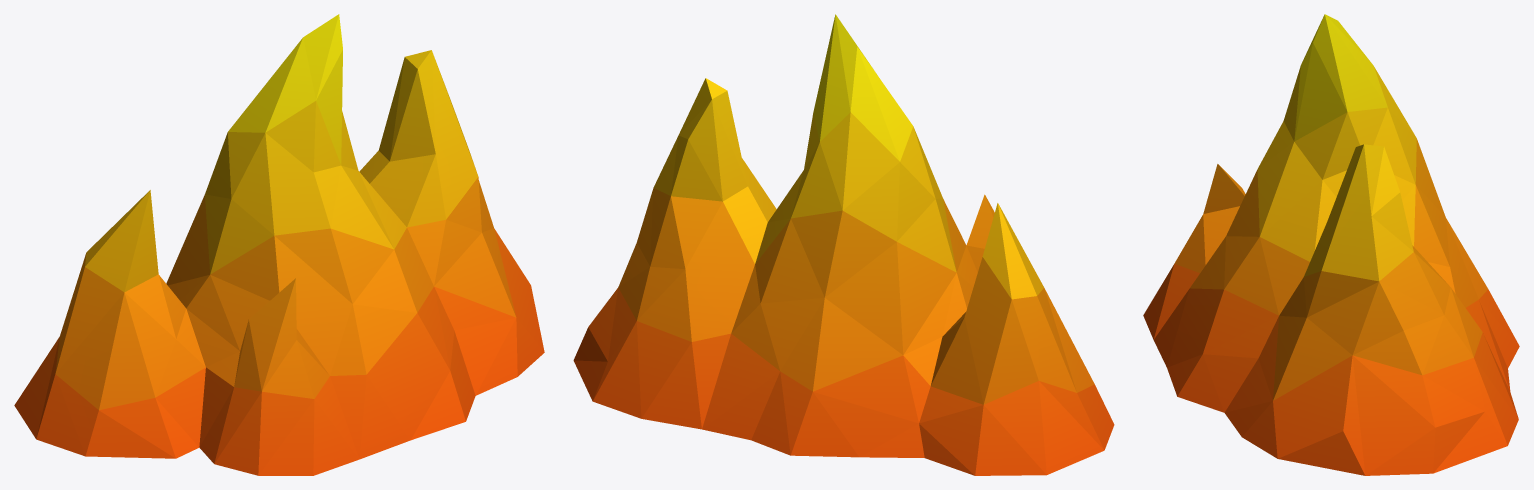
The model's file is fire.glb.
3 renders of one model, left to right at view 1: azimuth 30°, elevation 25°; view 2: azimuth 150°, elevation 25°; view 3: azimuth 270°, elevation 25°, orthographic. The views are drawn at different scales.
Parts seen in each view (by area): view 1: fire; view 2: fire; view 3: fire.
Part boxes in pixels (box(x1,y1,x2,y2)): fire: box(14, 14, 544, 475); fire: box(573, 14, 1114, 475); fire: box(1143, 14, 1519, 475).
Bounding box in the file's own units: 3.06 × 2.11 × 2.01.
1 material, 1 textured.
